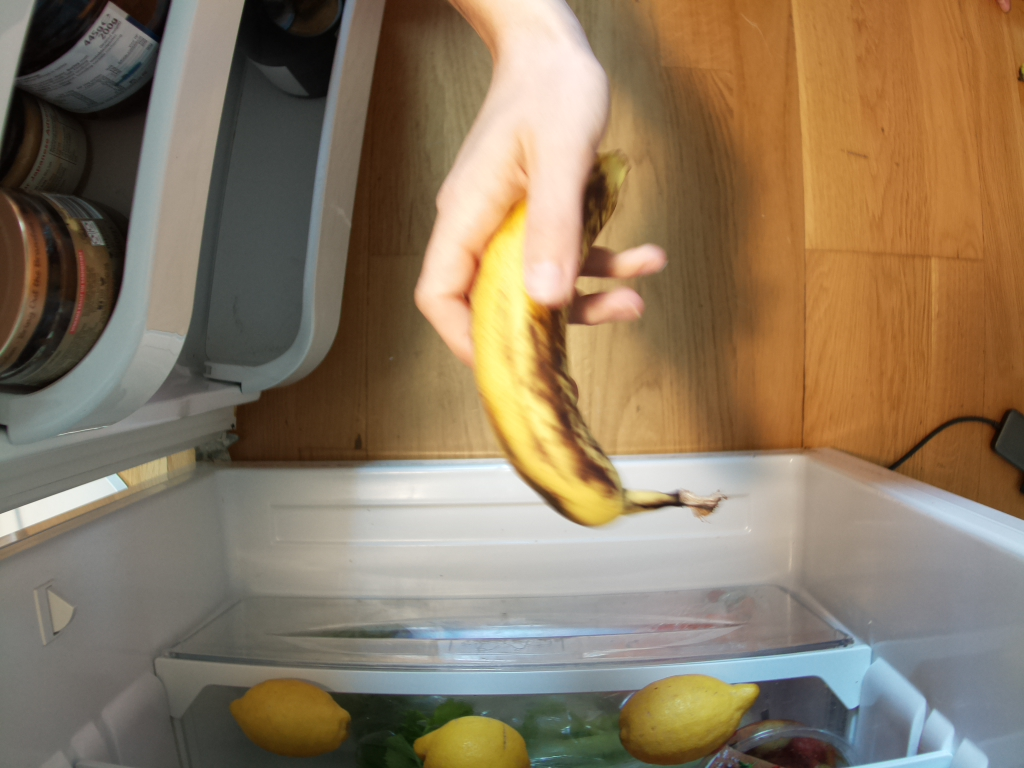banana-overripe: (466, 149, 736, 528)
